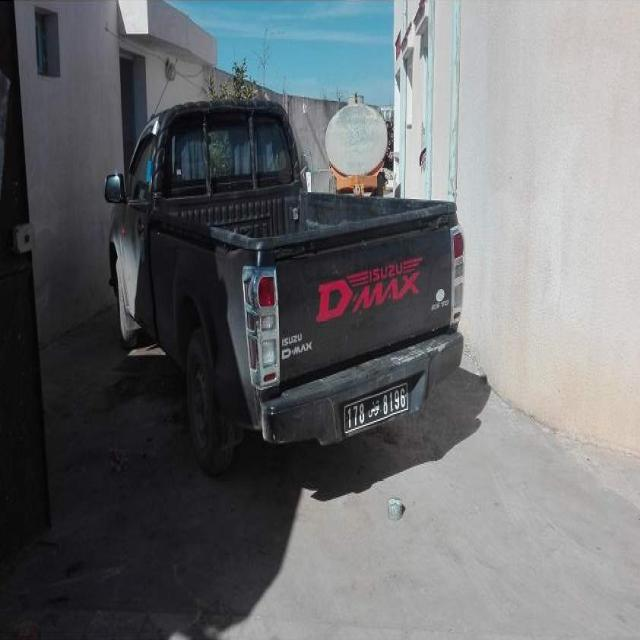licence plate: (345, 385, 407, 431)
